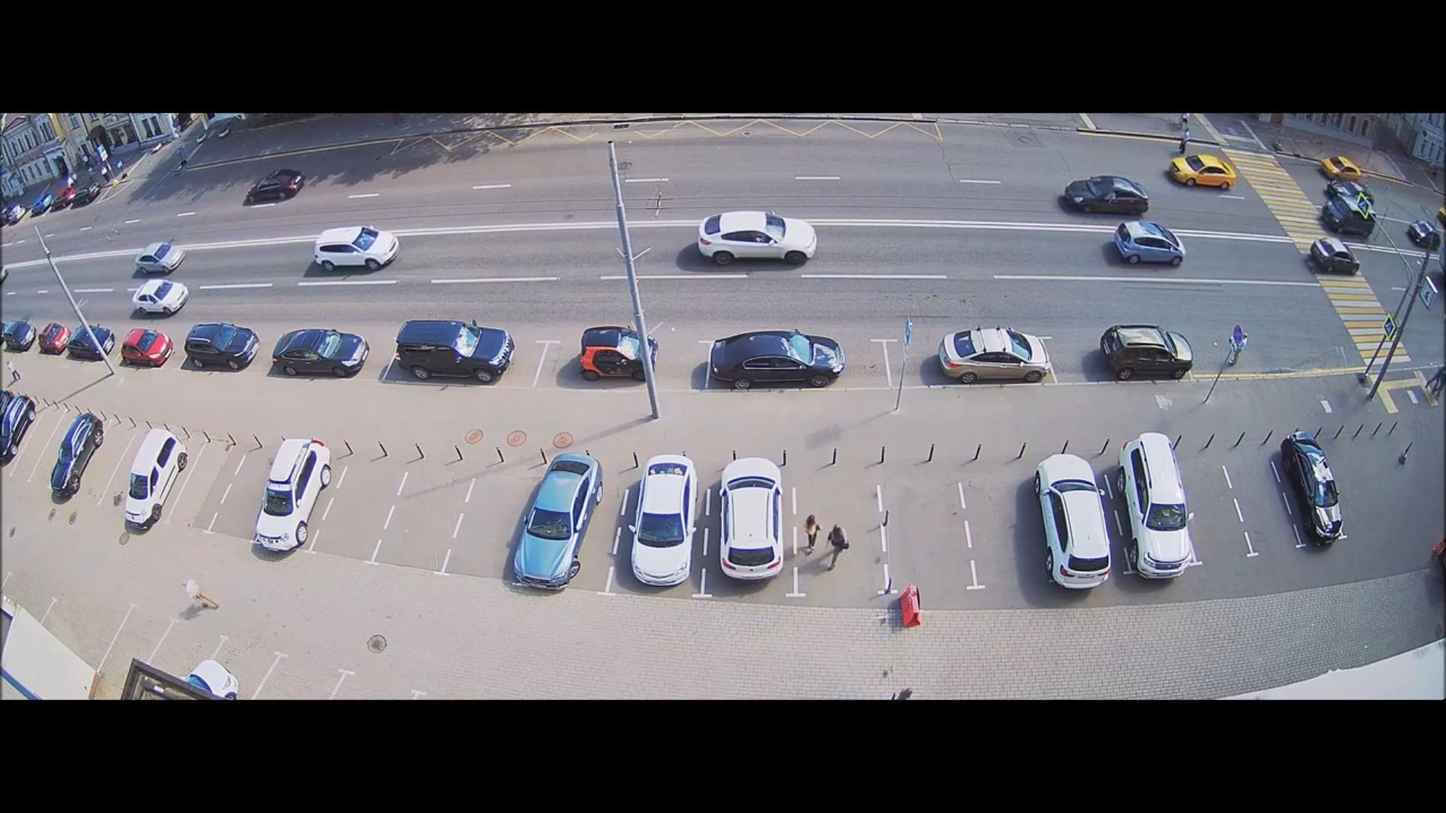free: (831, 512, 944, 571), (415, 492, 496, 550)
occupied: (511, 451, 603, 589), (1115, 433, 1195, 575), (1033, 454, 1110, 589), (629, 454, 698, 585), (254, 438, 333, 551), (718, 457, 785, 582), (708, 328, 841, 390), (392, 318, 514, 384), (1280, 431, 1347, 543), (696, 210, 817, 266), (123, 427, 190, 528), (1100, 323, 1196, 379), (271, 327, 370, 378), (50, 415, 107, 501), (313, 224, 399, 271), (183, 321, 260, 370), (1060, 175, 1148, 217), (1111, 218, 1188, 266), (1321, 180, 1378, 237), (0, 390, 38, 462), (1167, 153, 1234, 190), (119, 327, 174, 368), (185, 659, 239, 700), (131, 278, 189, 316), (246, 168, 305, 204), (1308, 237, 1362, 276), (67, 323, 118, 361), (133, 241, 185, 276), (1, 320, 38, 352), (38, 322, 73, 355), (1319, 155, 1363, 181), (1406, 220, 1439, 249), (69, 182, 105, 208), (1, 203, 27, 227), (31, 192, 57, 216)
